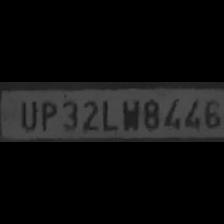2: (79, 96, 99, 132)
3: (58, 97, 78, 131)
4: (162, 95, 180, 129), (182, 94, 200, 128)
6: (201, 95, 221, 129)
8: (140, 96, 160, 130)
L: (98, 96, 116, 132)
P: (38, 98, 56, 132)
U: (16, 97, 36, 131)
W: (118, 95, 140, 131)
